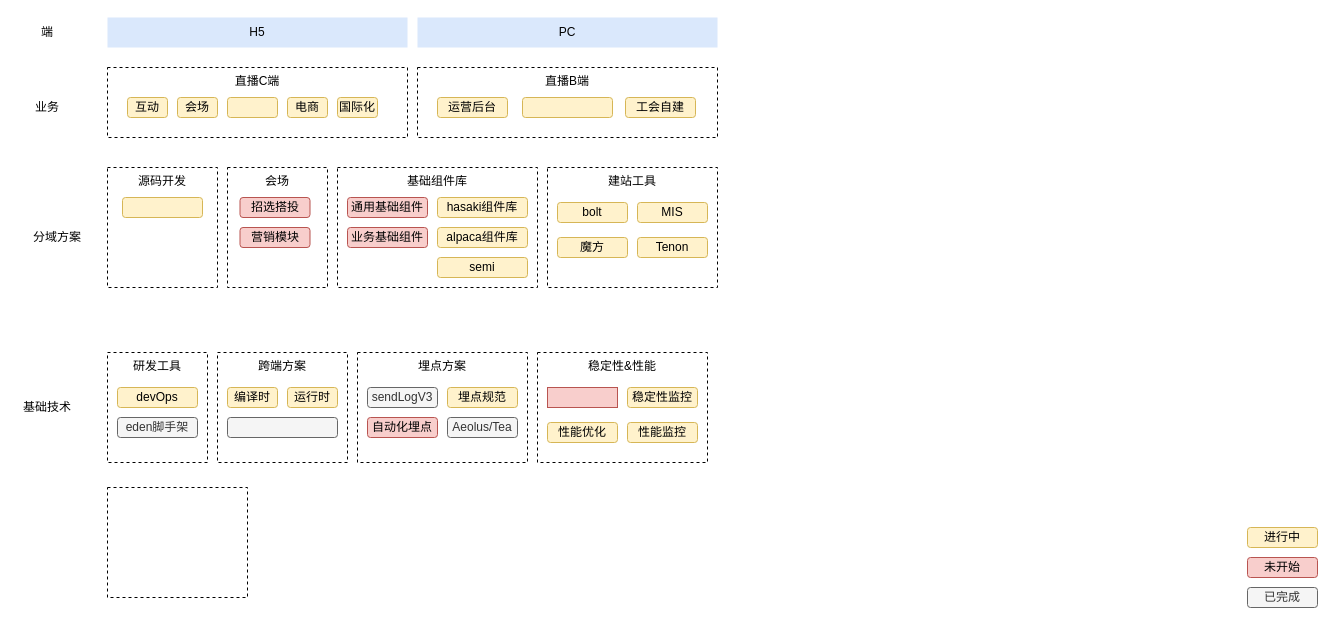
Some shapes in this 1335 by 625 pixel diagram are drawn without their labels. The centre of each missing label's shape, as x and y in pixels:
"Lynx" goes at (282,427).
"react" goes at (162,207).
"容灾兜底" goes at (582,397).
"指示器" goes at (252,107).
"活动管理平台" goes at (567,107).
